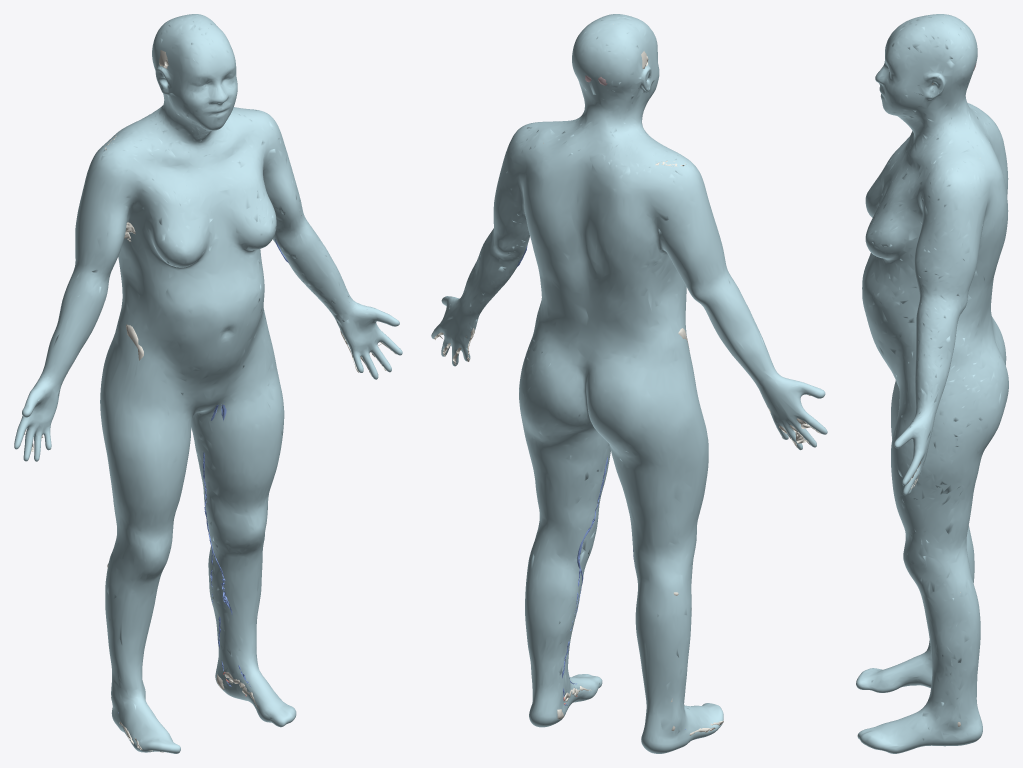
Rendered from body-female.glb.
3 views of the same model, side by side, from view 1: azimuth 30°, elevation 25°; view 2: azimuth 150°, elevation 25°; view 3: azimuth 270°, elevation 25° (orthographic).
Parts seen in each view (by area): view 1: skin, skeleton, veins; view 2: skin, skeleton; view 3: skin.
Boxes of the visible parts, x1,y1,x2,y2 form: skin: (14,14,402,753); skeleton: (24,50,396,752); veins: (118,239,288,713); skin: (431,14,827,753); skeleton: (434,24,821,735); skin: (856,14,1008,753).
Size of the model in its own units: 0.9398 by 1.62 by 0.3196.
